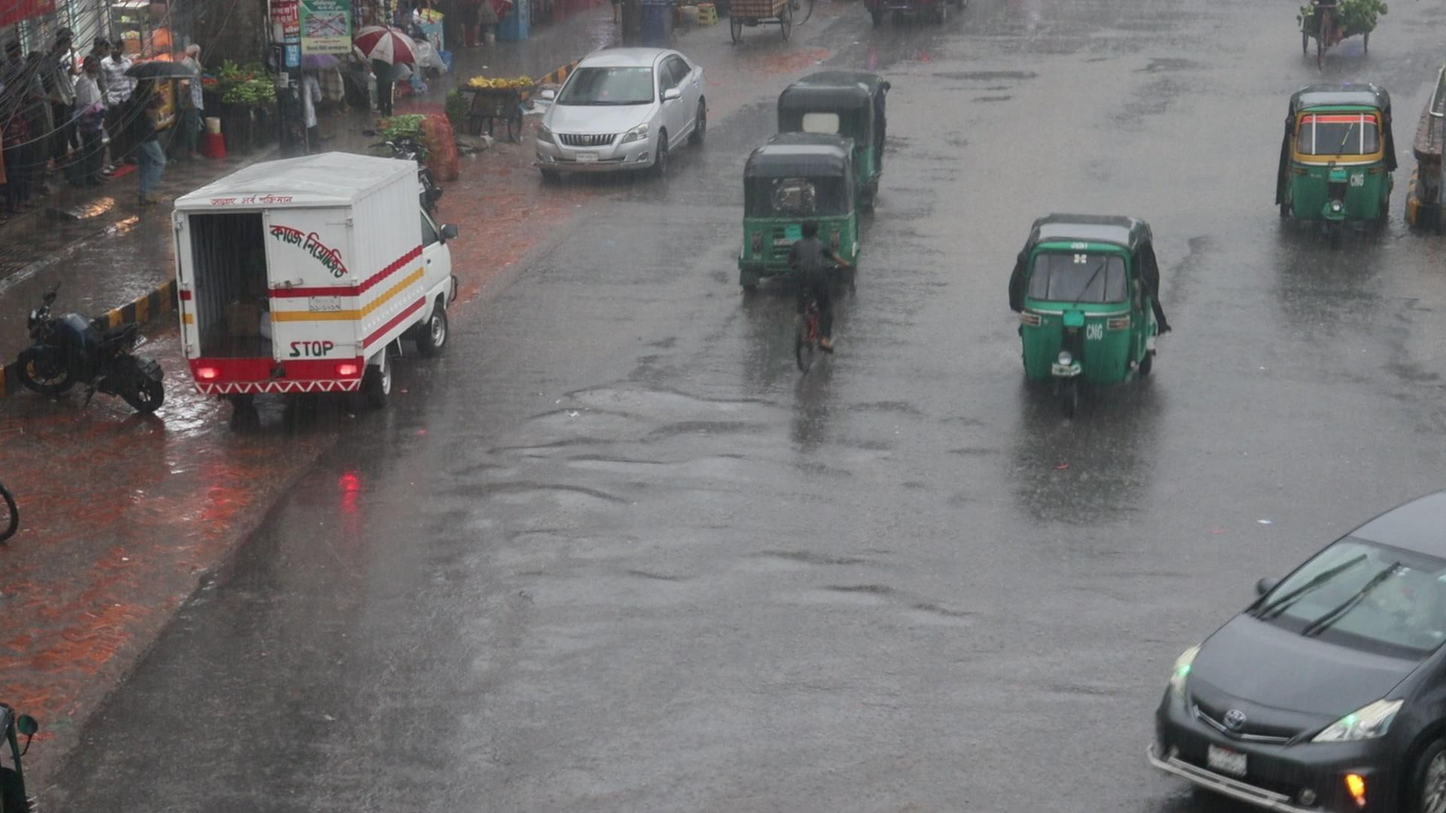Car: (1146, 481, 1446, 813), (532, 43, 709, 178)
